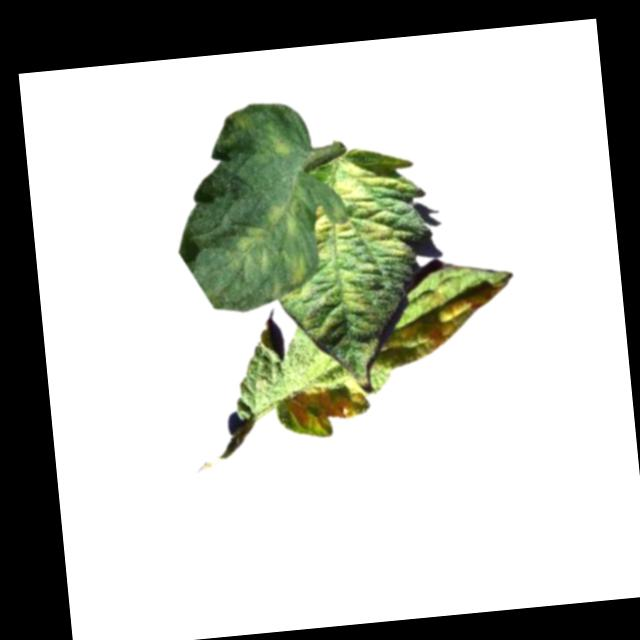Leaf_Mold: (309, 149, 418, 270), (375, 282, 526, 368), (225, 197, 312, 276), (285, 377, 374, 435), (229, 102, 294, 166), (282, 250, 312, 286)
